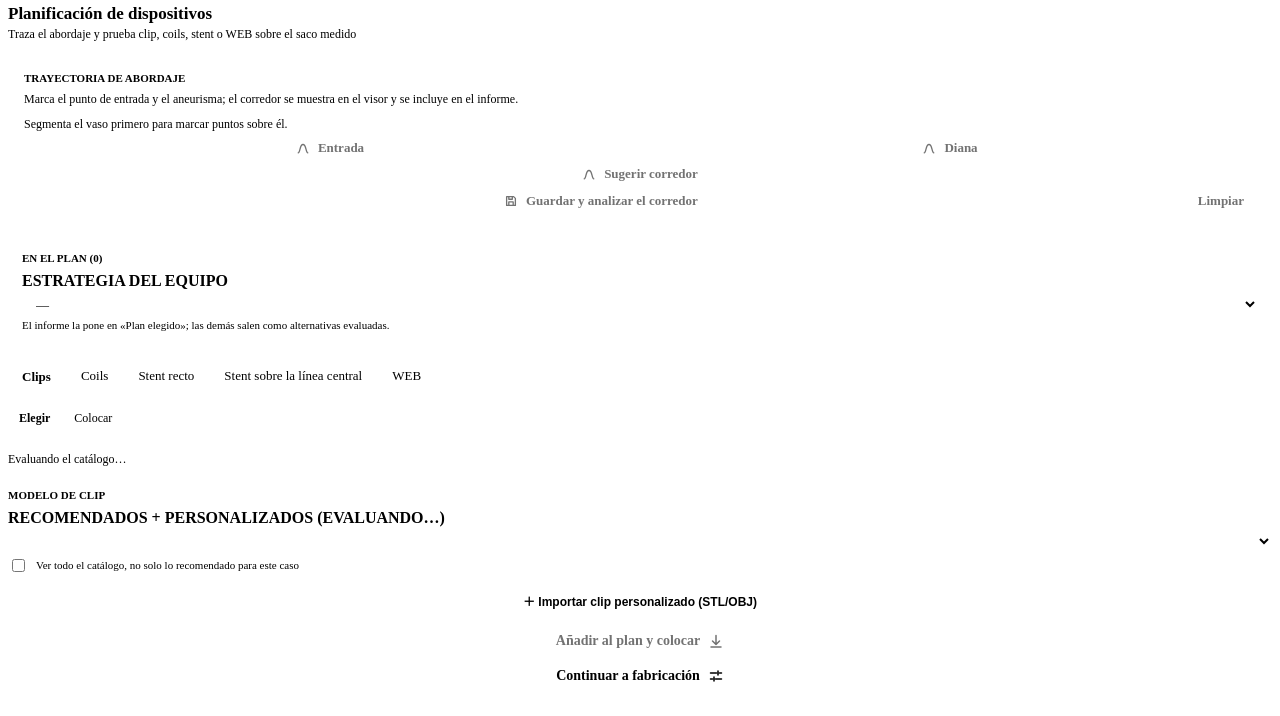
it: stent recto › sin línea central la geometría es «Tubo recto»
The width and height of the screenshot is (1280, 716).
Step 1. Click the button "Stent recto" → click(166, 376), box [124,360,208,394]
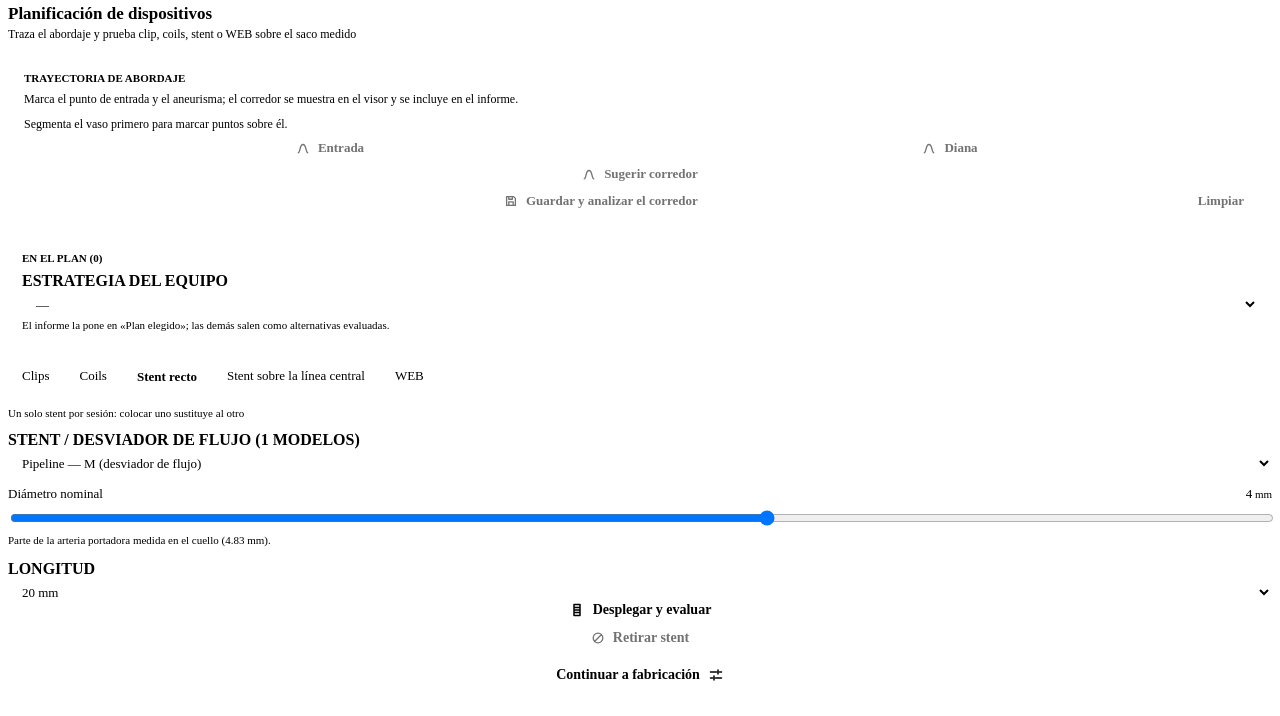
Expected: the slider labelled "Diámetro nominal" is shown, [10,510,1274,526]
Step 2. Click the button "Desplegar y evaluar" → click(640, 610), box [8,601,1272,619]
(page scrolled)
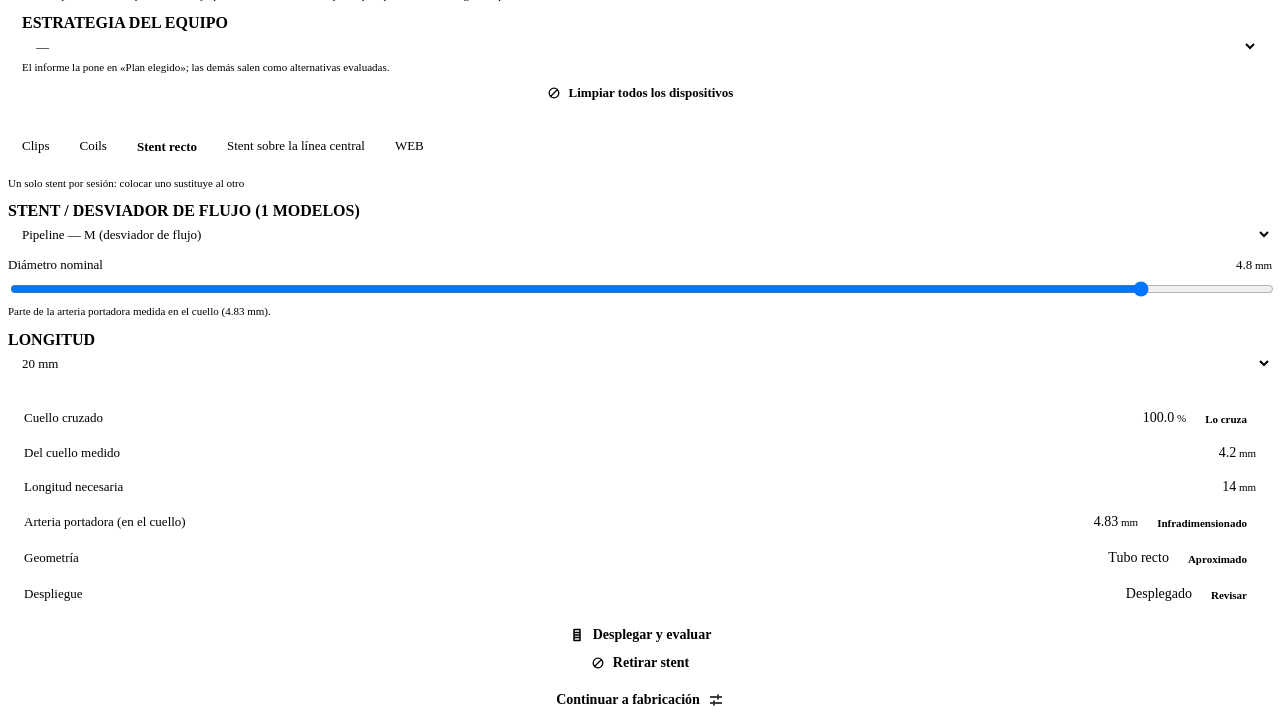
Expected: the text "Tubo recto" is shown, [1108,550,1169,566]
